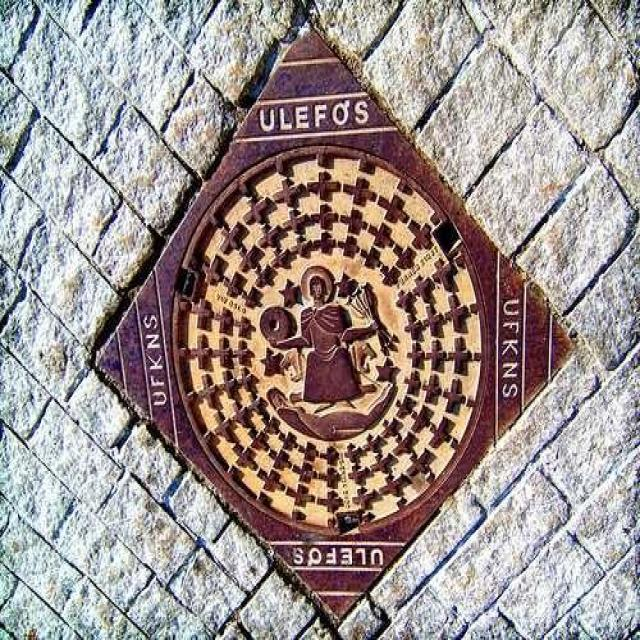manhole: (96, 30, 573, 619)
